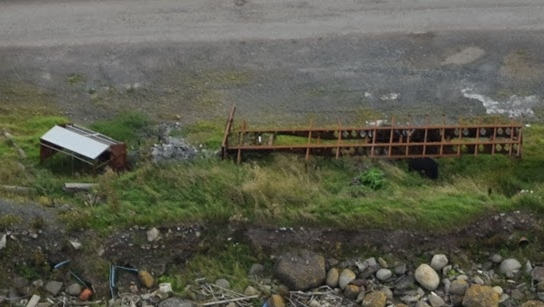cuboid: (217, 104, 533, 170), (31, 114, 133, 182)
scattered_barrel: (46, 248, 161, 301)
